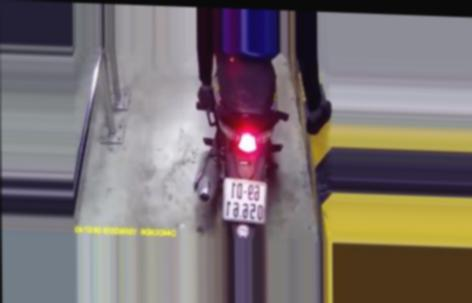License_Plate: (221, 175, 271, 226)
